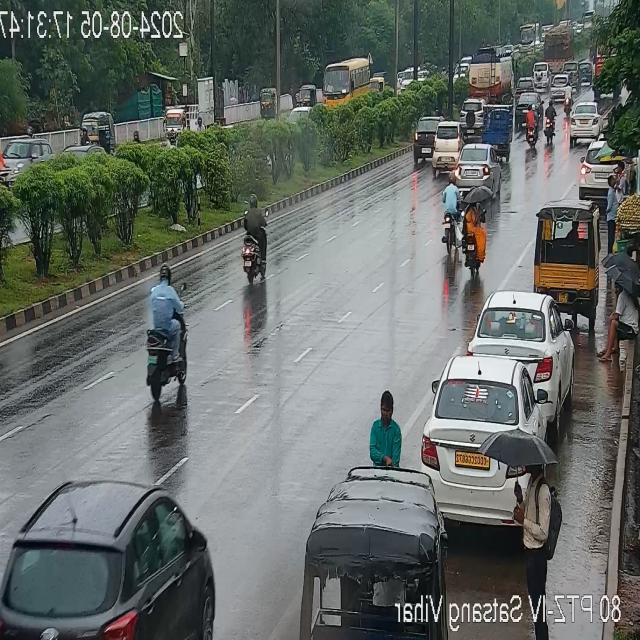2-wheelers: (144, 271, 190, 402), (236, 194, 270, 283), (460, 187, 484, 277), (438, 183, 460, 261), (523, 102, 539, 150), (540, 100, 556, 144), (564, 81, 572, 116), (198, 117, 204, 134)
auto: (296, 470, 434, 612), (530, 198, 600, 302), (161, 100, 194, 148), (481, 102, 515, 148), (81, 109, 115, 149), (256, 85, 276, 119), (371, 73, 385, 97)
bus: (320, 60, 370, 114)
car: (0, 476, 224, 640), (422, 359, 540, 522), (476, 291, 572, 395), (577, 140, 631, 192), (0, 136, 56, 178), (453, 146, 503, 192), (429, 121, 463, 176), (374, 390, 402, 454), (568, 101, 602, 140), (514, 90, 542, 132), (412, 116, 434, 156), (461, 96, 483, 134), (550, 76, 568, 101), (580, 59, 594, 87), (533, 61, 548, 87), (516, 76, 534, 92), (570, 63, 580, 91)
pedestrian: (518, 459, 554, 582), (601, 280, 635, 360), (602, 172, 628, 248)
truck: (467, 47, 515, 93), (544, 23, 574, 68), (520, 21, 538, 53)
